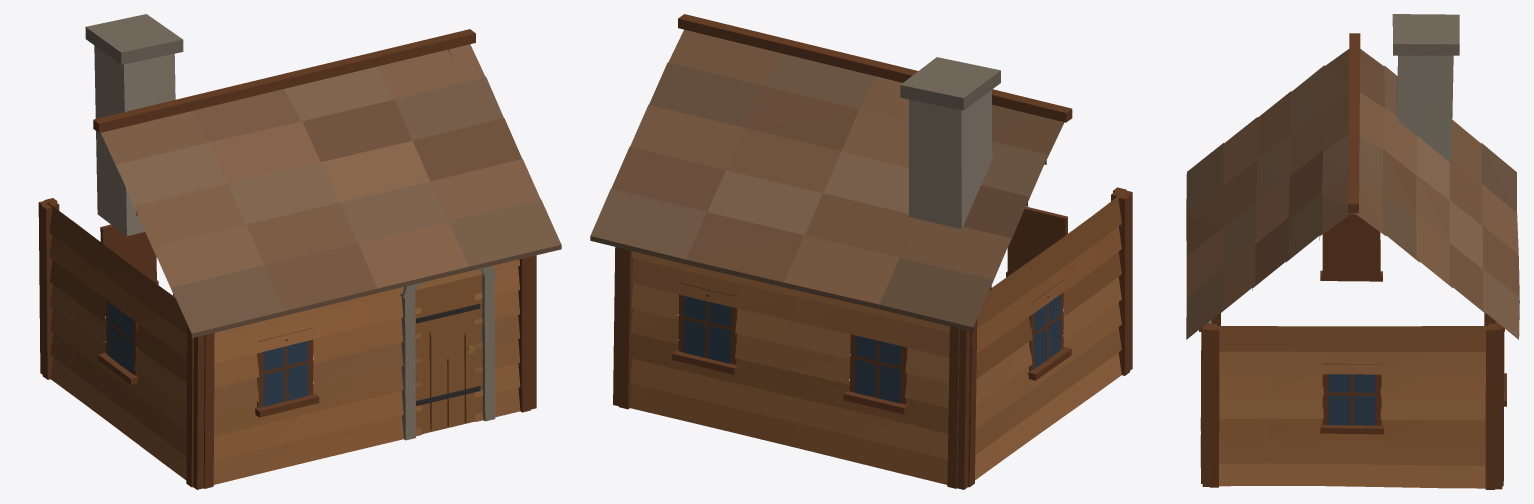
Rendered from cabin.glb.
3 views of the same model, side by side, from view 1: azimuth 30°, elevation 25°; view 2: azimuth 150°, elevation 25°; view 3: azimuth 270°, elevation 25° (orthographic). The views are drawn at different scales.
Parts seen in each view (by area): view 1: buildings/cabin; view 2: buildings/cabin; view 3: buildings/cabin.
Boxes of the visible parts, box(x1,y1,x2,y2) form: buildings/cabin: box(38, 14, 561, 489); buildings/cabin: box(590, 14, 1132, 489); buildings/cabin: box(1186, 14, 1519, 489).
Size of the model in its own units: 5.1 by 4.63 by 4.22.
